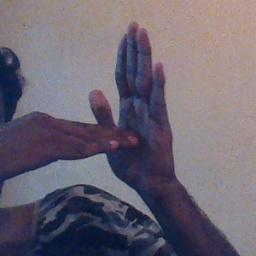Z: (39, 19, 179, 197)
